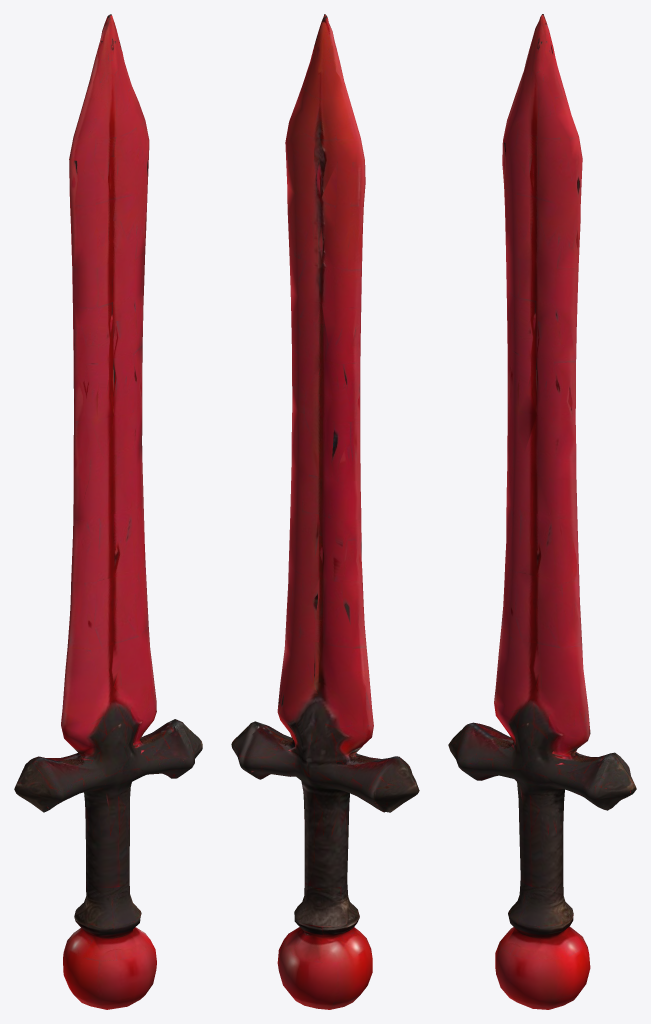
Rendered from 1297_sword.glb.
3 views of the same model, side by side, from view 1: azimuth 30°, elevation 25°; view 2: azimuth 150°, elevation 25°; view 3: azimuth 330°, elevation 25° (orthographic).
Visible parts, largest first — view 1: Model; view 2: Model; view 3: Model.
Part boxes in pixels (bbox=[...]): Model: bbox=[14, 14, 202, 1009]; Model: bbox=[231, 14, 419, 1009]; Model: bbox=[448, 14, 636, 1009].
Bounding box in the file's own units: 0.1983 × 1 × 0.0878.
Materials: 1 (1 with a texture image).
